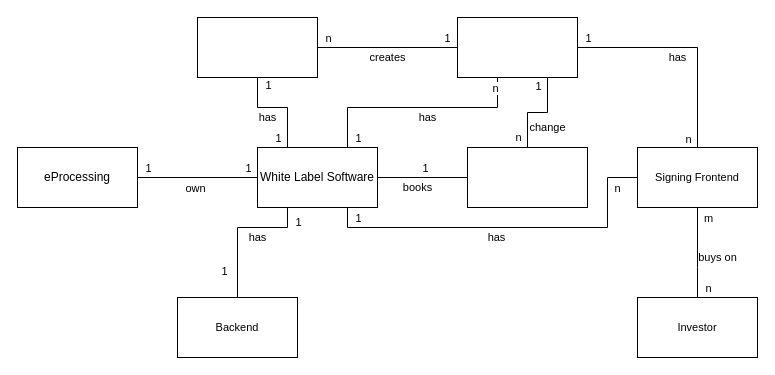
This 775x375 diagram has some shape labels left out. Each missing label, with the centre of its shape:
"Booking Frontend" goes at (x=257, y=47).
"Custom Frontend" goes at (x=517, y=47).
"Customers" goes at (x=527, y=177).
